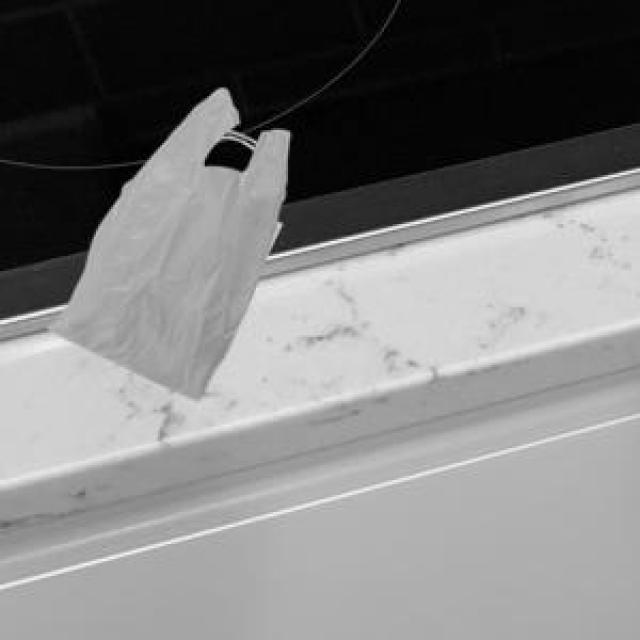paper: (266, 218, 277, 245)
